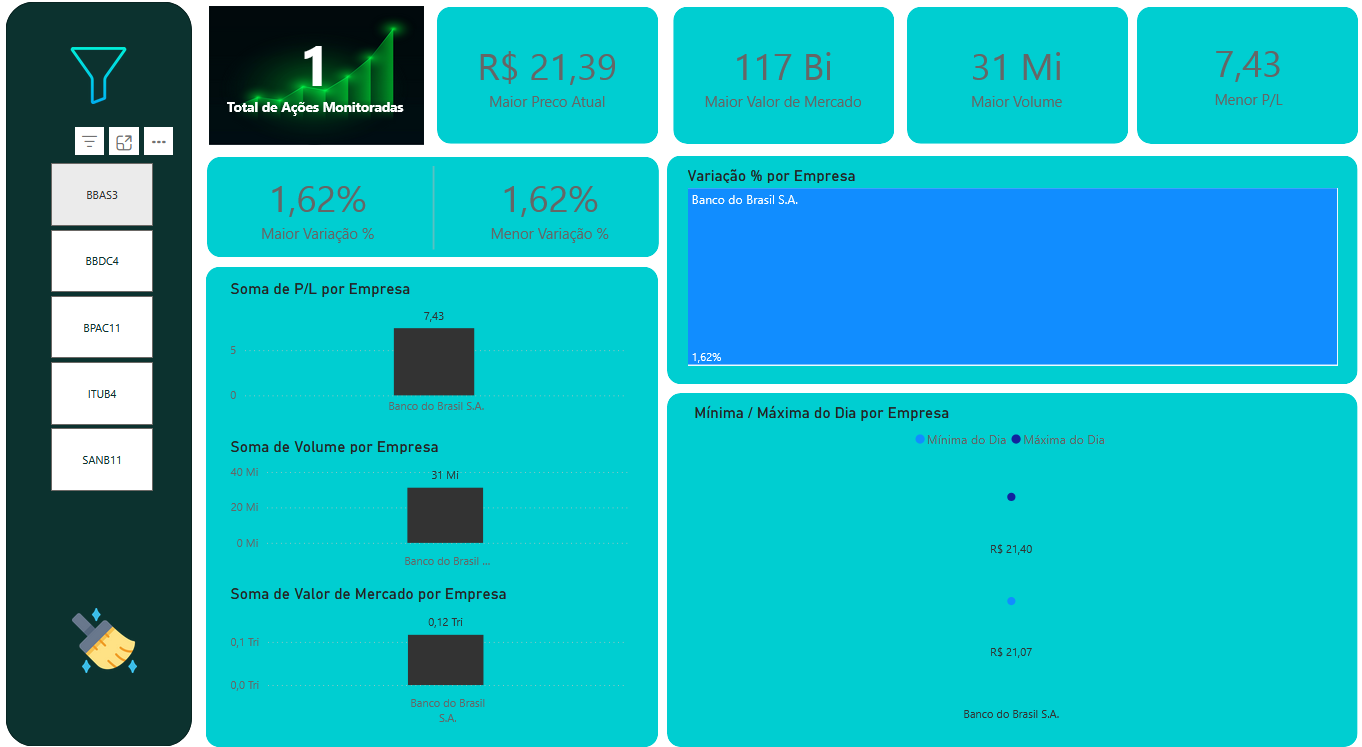

Layout of this report page (visuals, bound fields, positions):
{"tool":"powerbi","page":{"name":"Ações","canvas":[1500,840],"ordinal":0},"visuals":[{"type":"shape","box":[998.6,20.1,240.1,148.8],"z":0},{"type":"shape","box":[744.2,20.3,240,148.8],"z":1000},{"type":"shape","box":[1248.4,20.3,240,148.8],"z":2000},{"type":"shape","box":[488.9,20.1,240.1,148.8],"z":3000},{"type":"shape","box":[238.6,182.7,490.5,109.2],"z":4000},{"type":"image","box":[236.3,15.4,243.2,161],"z":5000},{"type":"card","fields":{"Values":["Medidas.Maior Preco Atual"]},"box":[504.8,38.3,207.9,113.6],"z":6000},{"type":"card","fields":{"Values":["Medidas.Maior Volume"]},"box":[1020.7,38.3,195.9,113.6],"z":7000},{"type":"card","fields":{"Values":["Medidas.Maior Valor de Mercado"]},"box":[757.5,38.3,215.3,113.6],"z":8000},{"type":"card","fields":{"Values":["Medidas.Menor P/L"]},"box":[1265.9,38.3,207.9,109.2],"z":9000},{"type":"card","fields":{"Values":["Medidas.Maior Variação %"]},"box":[259.3,192,200.4,91.2],"z":10000},{"type":"card","fields":{"Values":["Medidas.Menor Variação %"]},"box":[515,192,191.4,91.2],"z":11000},{"type":"card","fields":{"Values":["Medidas.Total de Ações Monitoradas"]},"box":[250,37.7,214,106.2],"z":12000},{"type":"shape","box":[452.1,192,65.8,91.2],"z":13000},{"type":"shape","box":[236.8,302,491,521.6],"z":14000},{"type":"shape","box":[738,182.2,749.6,248.4],"z":15000},{"type":"shape","box":[738,439.4,749.6,384.3],"z":16000},{"type":"clusteredColumnChart","fields":{"Category":["dados_tratados.Empresa"],"Y":["Sum(dados_tratados.P/L)"]},"box":[258.8,316.6,441.3,156.3],"z":17000},{"type":"columnChart","fields":{"Category":["dados_tratados.Empresa"],"Y":["Sum(dados_tratados.Volume)"]},"box":[258.8,487.6,441.3,150.5],"z":18000},{"type":"columnChart","fields":{"Category":["dados_tratados.Empresa"],"Y":["Sum(dados_tratados.Valor de Mercado)"]},"box":[258.8,646.8,441.3,160.7],"z":19000},{"type":"treemap","title":"Variação % por Empresa","fields":{"Group":["dados_tratados.Empresa"],"Values":["Sum(dados_tratados.Variação %)"]},"box":[755.6,192.4,716,222.1],"z":20000},{"type":"stackedAreaChart","title":"Mínima / Máxima do Dia por Empresa","fields":{"Category":["dados_tratados.Empresa"],"Y":["Sum(dados_tratados.Mínima do Dia)","Sum(dados_tratados.Máxima do Dia)"]},"box":[762.9,451,699.9,356.5],"z":21000},{"type":"shape","box":[20.5,15.4,202.1,808.2],"z":22000},{"type":"slicer","fields":{"Values":["dados_tratados.Ticker"]},"box":[42.8,183.2,161,369.9],"z":23000},{"type":"image","box":[85.6,667.8,83.9,80.5],"z":24000},{"type":"image","box":[85.6,58.2,71.9,73.6],"z":25000}]}

Visuals, with their boxes in screenshot pixels (x1, y1, x2, y2), scaled from the page's 1500x840 canvas onto the 1362x747 screenshot:
shape: rect(907, 18, 1125, 150)
shape: rect(676, 18, 894, 150)
shape: rect(1134, 18, 1351, 150)
shape: rect(444, 18, 662, 150)
shape: rect(217, 162, 662, 260)
image: rect(215, 14, 435, 157)
card - Medidas.Maior Preco Atual: rect(458, 34, 647, 135)
card - Medidas.Maior Volume: rect(927, 34, 1105, 135)
card - Medidas.Maior Valor de Mercado: rect(688, 34, 883, 135)
card - Medidas.Menor P/L: rect(1149, 34, 1338, 131)
card - Medidas.Maior Variação %: rect(235, 171, 417, 252)
card - Medidas.Menor Variação %: rect(468, 171, 641, 252)
card - Medidas.Total de Ações Monitoradas: rect(227, 34, 421, 128)
shape: rect(411, 171, 470, 252)
shape: rect(215, 269, 661, 732)
shape: rect(670, 162, 1351, 383)
shape: rect(670, 391, 1351, 733)
clusteredColumnChart - dados_tratados.Empresa x Sum(dados_tratados.P/L): rect(235, 282, 636, 421)
columnChart - dados_tratados.Empresa x Sum(dados_tratados.Volume): rect(235, 434, 636, 567)
columnChart - dados_tratados.Empresa x Sum(dados_tratados.Valor de Mercado): rect(235, 575, 636, 718)
"Variação % por Empresa" treemap: rect(686, 171, 1336, 369)
"Mínima / Máxima do Dia por Empresa" stackedAreaChart: rect(693, 401, 1328, 718)
shape: rect(19, 14, 202, 732)
slicer - dados_tratados.Ticker: rect(39, 163, 185, 492)
image: rect(78, 594, 154, 665)
image: rect(78, 52, 143, 117)
